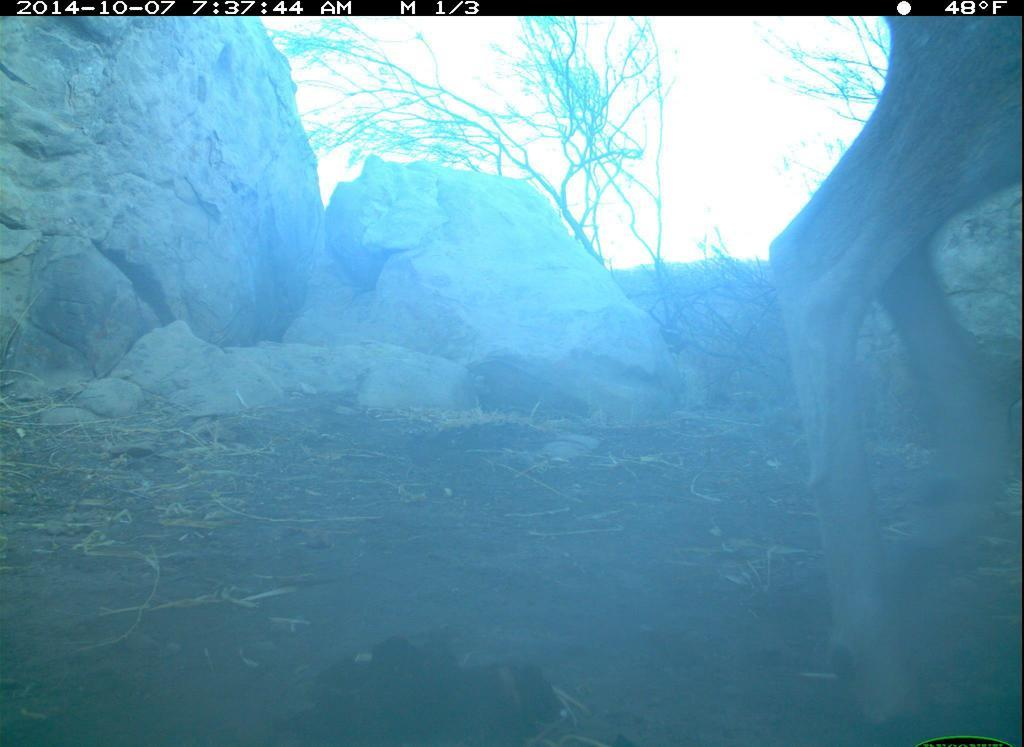deer: (747, 15, 1019, 747)
